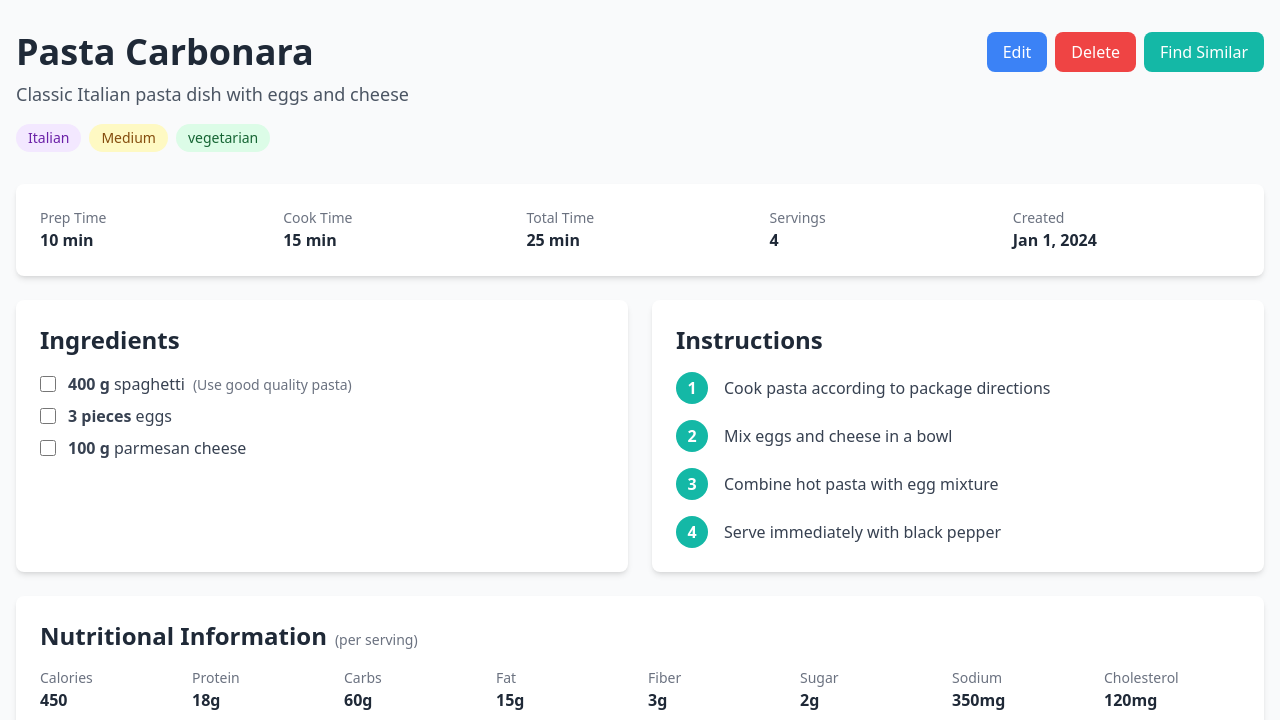
Test: RecipeDetailPage › Delete Functionality › should show deleting state while deleting
The width and height of the screenshot is (1280, 720).
Expected: the heading "Pasta Carbonara" is shown, [16,27,314,76]
Open modal
What coordinates should you click on to do the following:
click the button "Delete"
I would click on:
 (1096, 52)
Its box is [1055,32,1136,72].
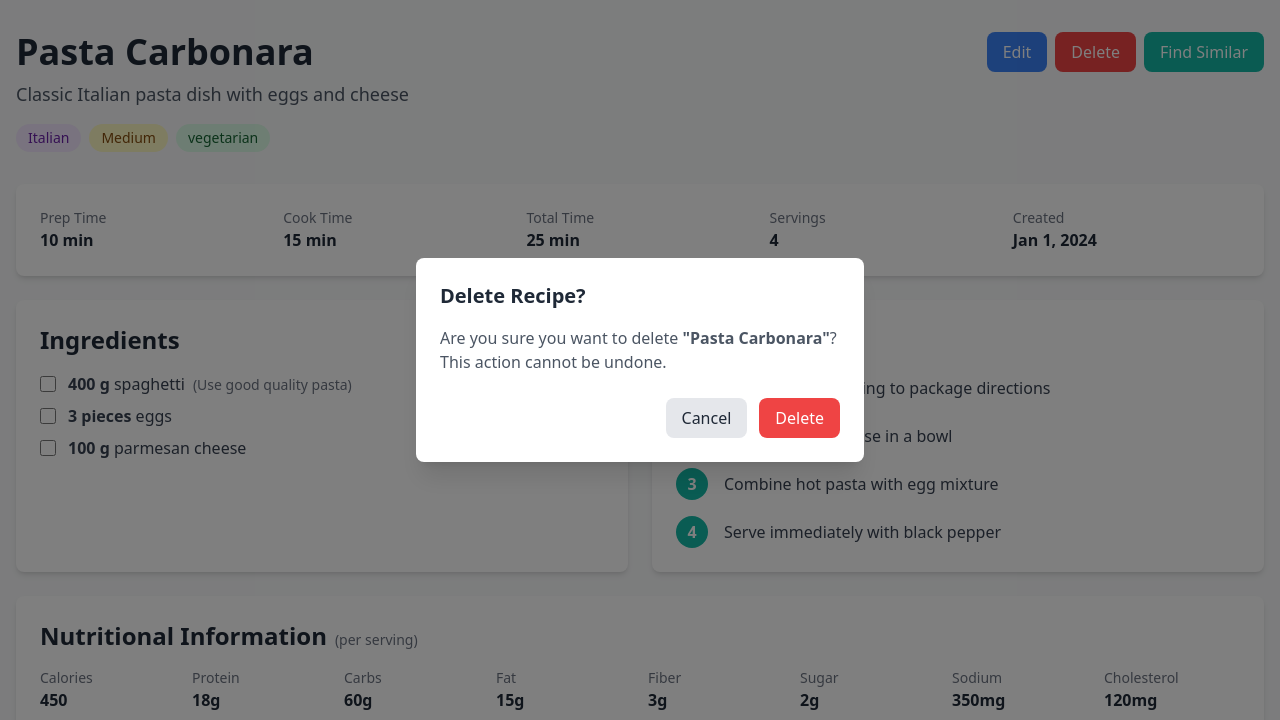
Now the heading "Delete Recipe?" is shown, box [440,282,586,309]
Click confirm
What coordinates should you click on to do the following:
click the button "Delete"
I would click on:
 (800, 418)
Its box is [759,398,840,438].
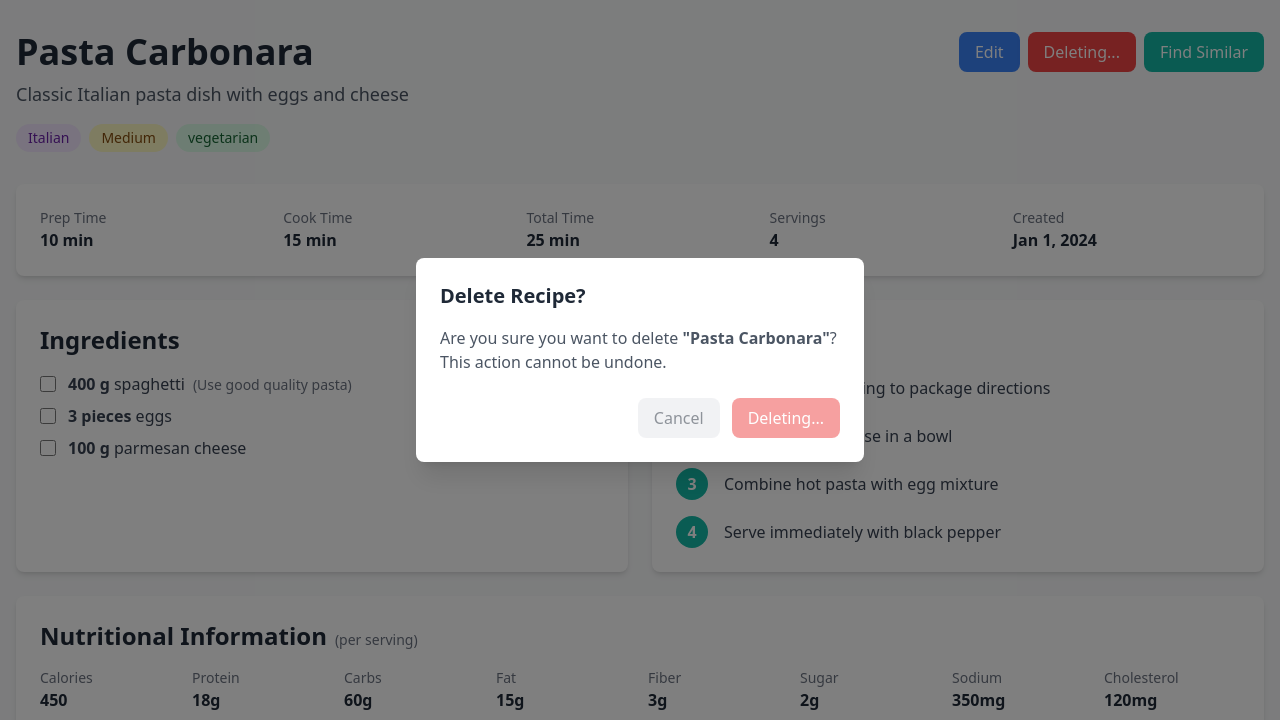
Now the 1st button "Deleting..." is shown, box [1028,32,1136,72]
